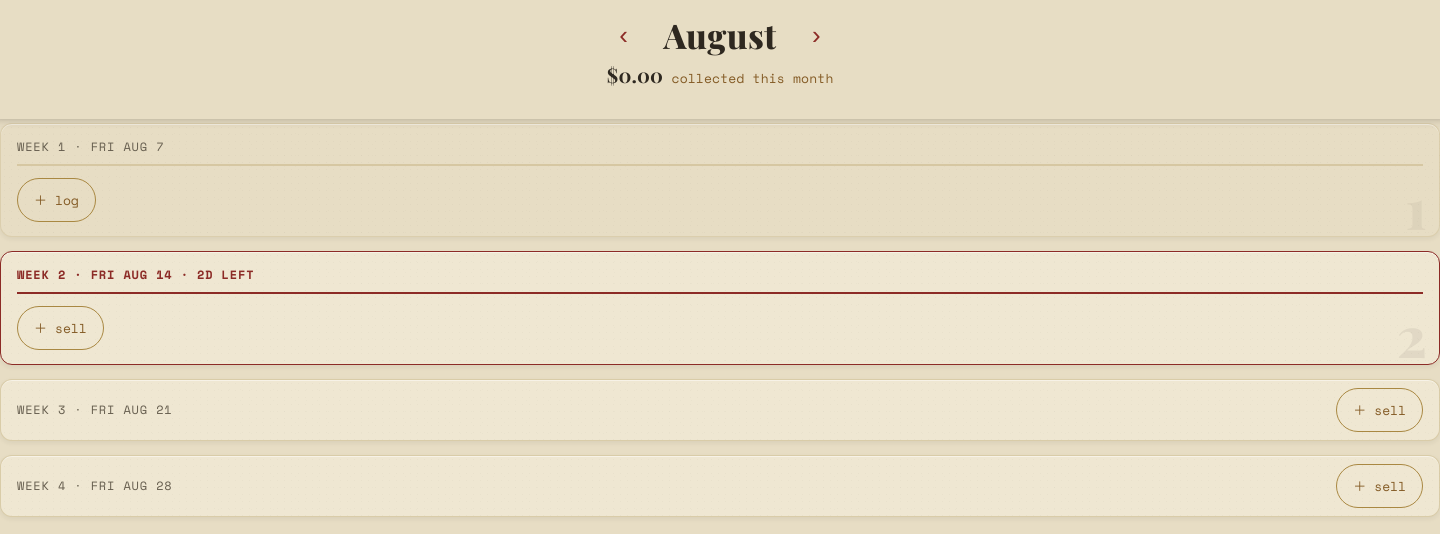
Test case: OptionsTab board › chevrons browse months
Click the button named "Next month" at (816, 36), box x1=794 y1=14 x2=838 y2=58
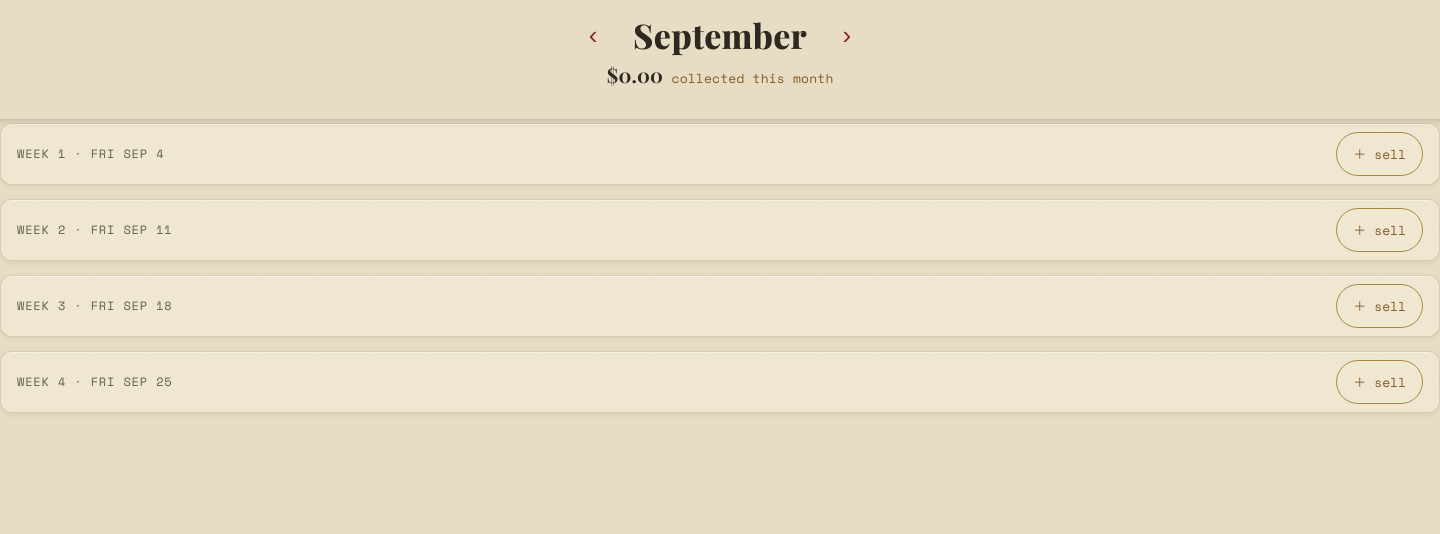
Expected: the heading "September" is shown, x1=633 y1=10 x2=807 y2=61
